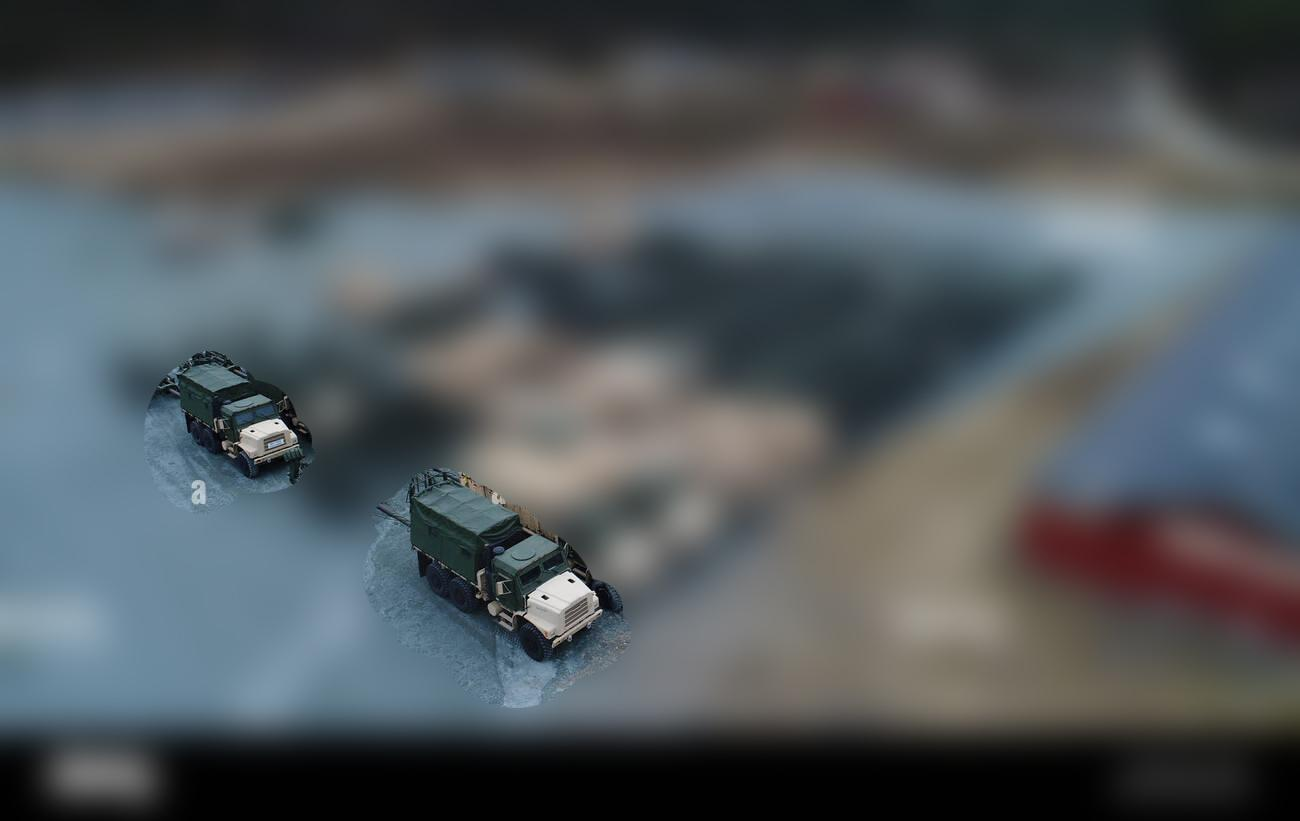truck: (407, 470, 610, 656), (171, 352, 315, 490)
